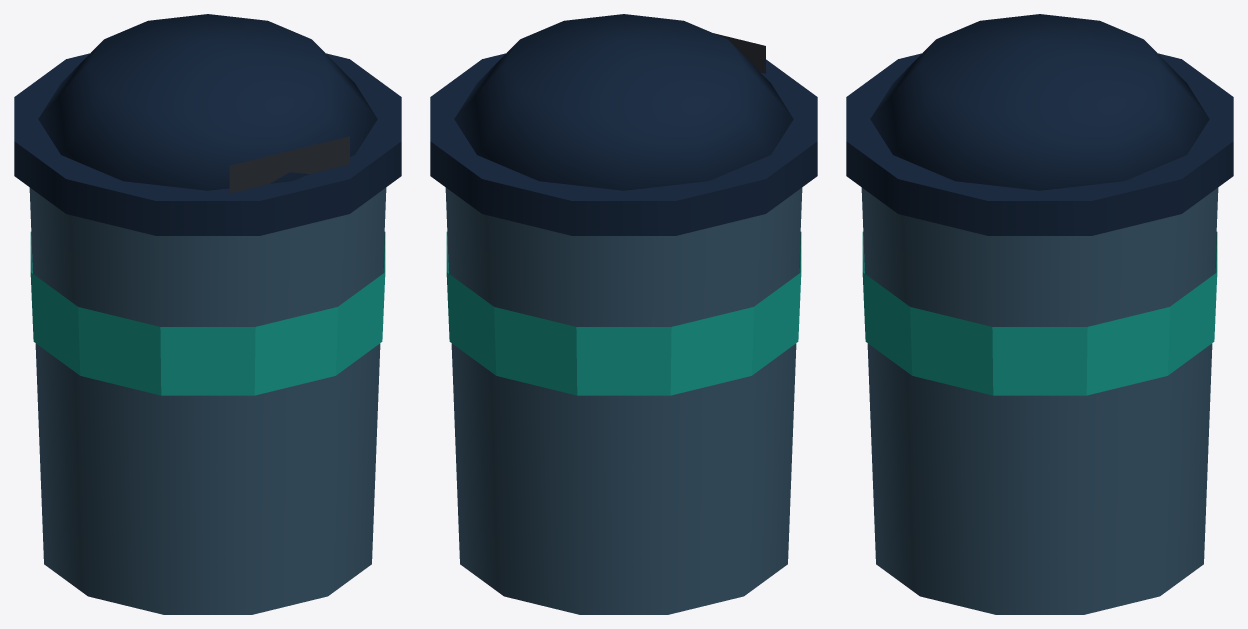
The model's file is CM_Prop_TrashCan.fbx.
The picture shows the model from 3 angles, left to right: view 1: azimuth 30°, elevation 25°; view 2: azimuth 150°, elevation 25°; view 3: azimuth 270°, elevation 25°; orthographic projection.
Parts seen in each view (by area): view 1: Body; view 2: Body; view 3: Body.
Boxes of the visible parts, x1,y1,x2,y2 form: Body: (14,14,401,614); Body: (430,14,817,614); Body: (846,14,1233,614).
Size of the model in its own units: 2.51 by 2.51 by 3.6.
Materials: 1 (1 with a texture image).
